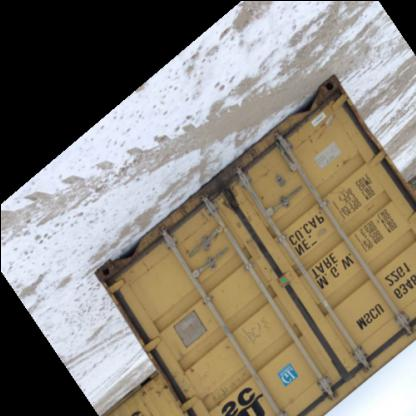Damage: (206, 168, 257, 218), (292, 103, 338, 149), (202, 375, 250, 410), (236, 314, 278, 346), (340, 154, 364, 170), (178, 352, 194, 376), (362, 205, 378, 221)
